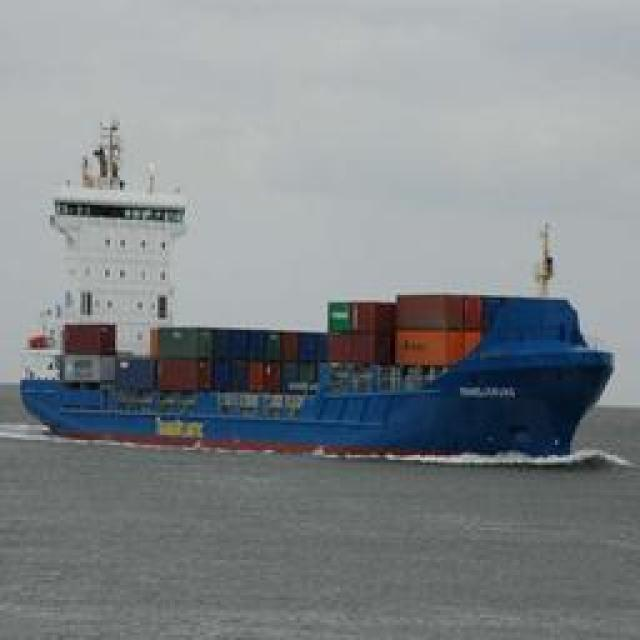CIV_Ship: (19, 292, 622, 462)
